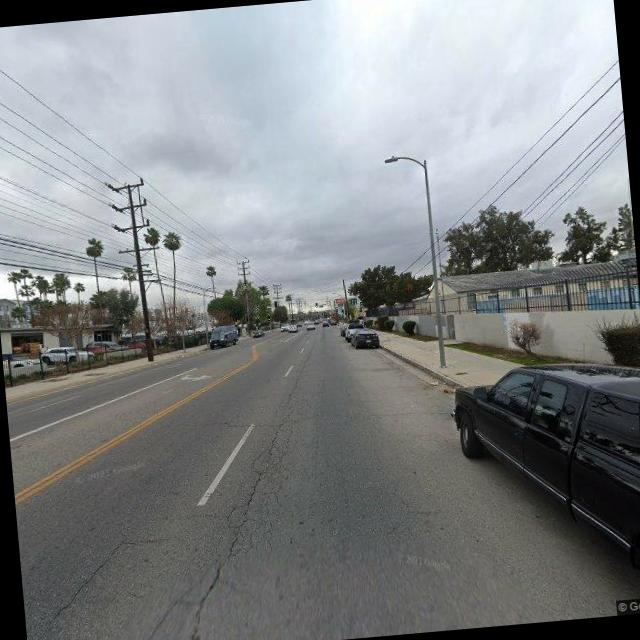crack: (170, 389, 319, 640), (32, 534, 134, 632), (168, 412, 284, 438)
